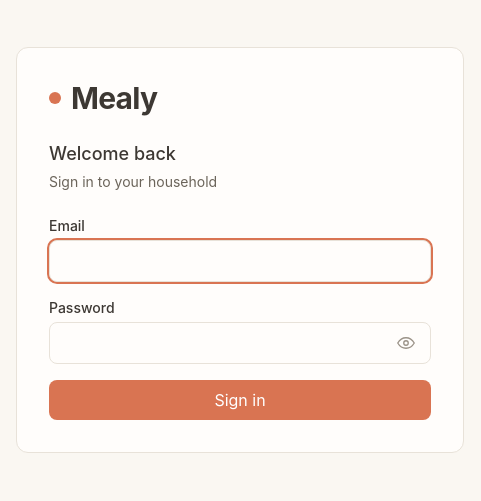
it: LoginForm error mapping › shows "Invalid email or password" on 401
Expected: the heading "Welcome back" is shown, [49, 143, 176, 164]
Type "a@b.com" into the field labelled "Email".
click(240, 261); type("a@b.com")  # box [49, 240, 431, 282]
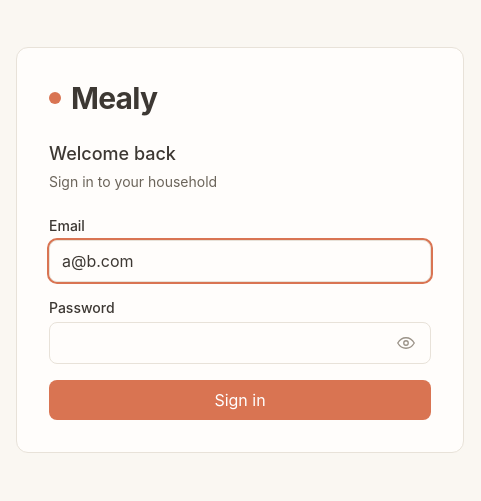
Type "wrongpass1234" into the password field labelled "Password".
click(240, 343); type("wrongpass1234")  # box [49, 322, 431, 364]
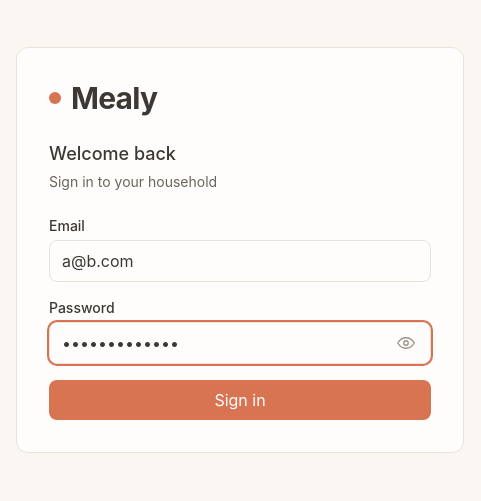
Click the button "Sign in".
click(240, 400)  # box [49, 380, 431, 420]
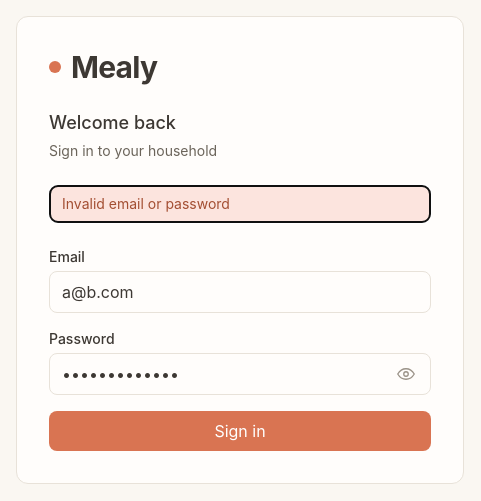
Result: the text "Invalid email or password" is shown at [49, 185, 431, 223]
